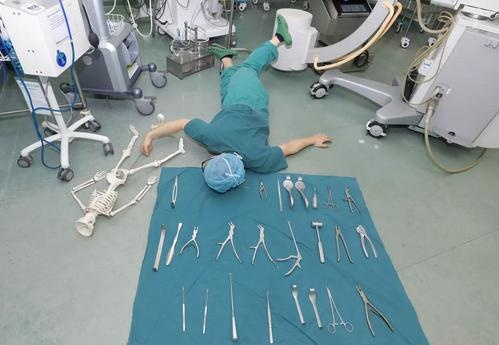falling: (132, 2, 331, 198)
